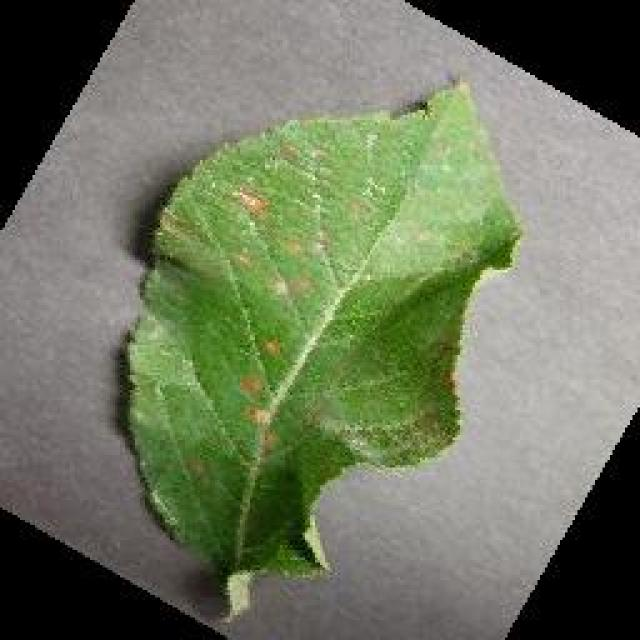apple scab disease: (115, 75, 523, 620)
